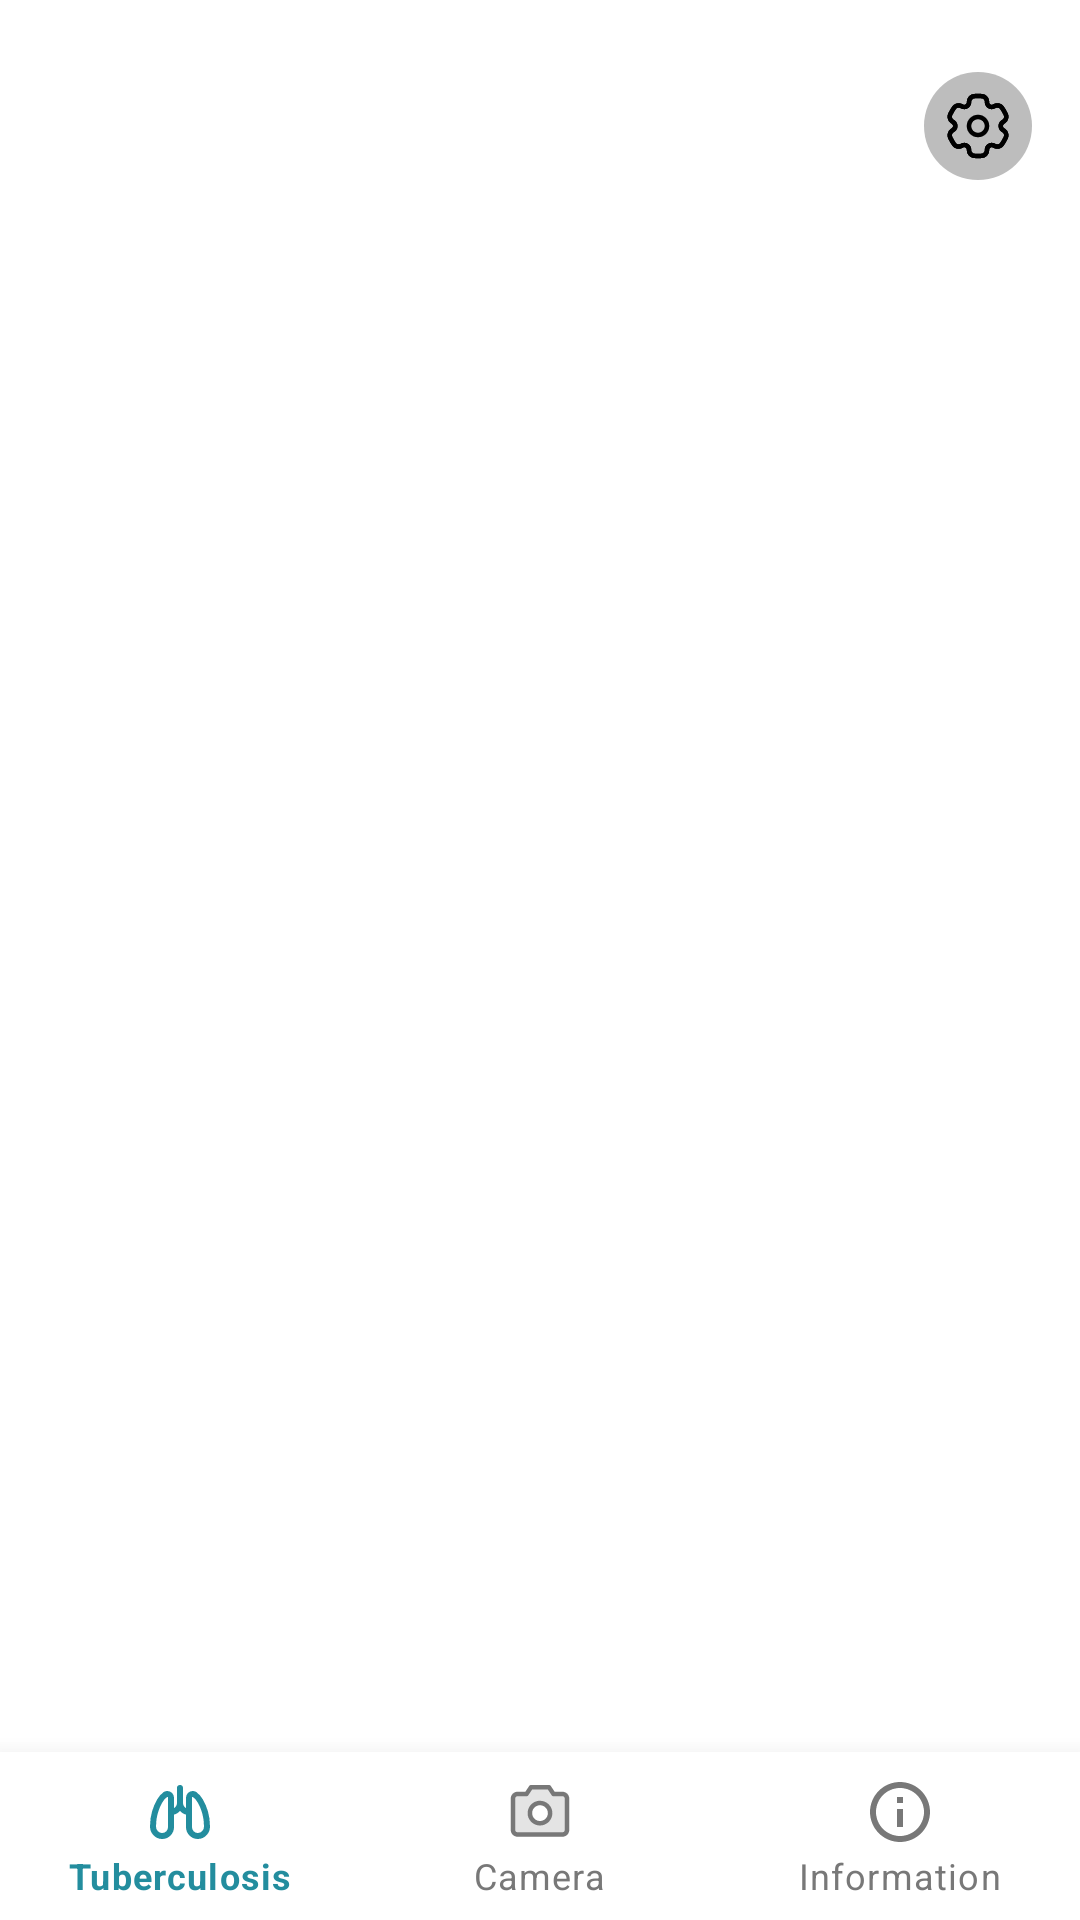

Where icons sit on this 1080*1920 app screen, as (x1, y1, x2, y2):
settings: (924, 72, 1032, 180)
